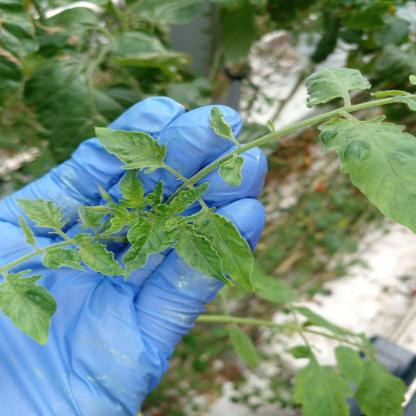T_L_R: (320, 116, 416, 232), (184, 208, 255, 293), (1, 271, 57, 346), (166, 224, 233, 286), (96, 128, 169, 174), (123, 216, 171, 278), (307, 68, 372, 108), (17, 199, 70, 235), (80, 242, 126, 277), (211, 107, 242, 148), (120, 170, 151, 210), (171, 183, 211, 214), (102, 204, 138, 237), (43, 249, 86, 271), (220, 158, 245, 187), (147, 181, 165, 207)
T_S_R: (186, 99, 400, 188), (239, 99, 403, 155)
